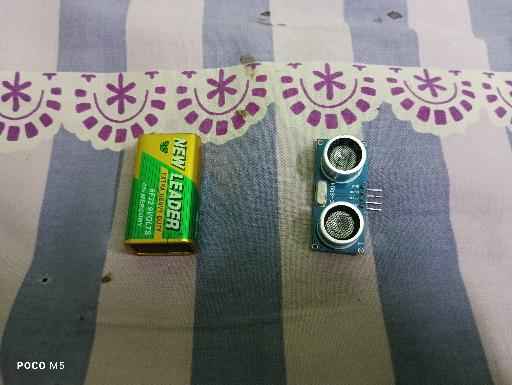Battery: (124, 132, 203, 257)
sensor: (310, 135, 382, 255)
